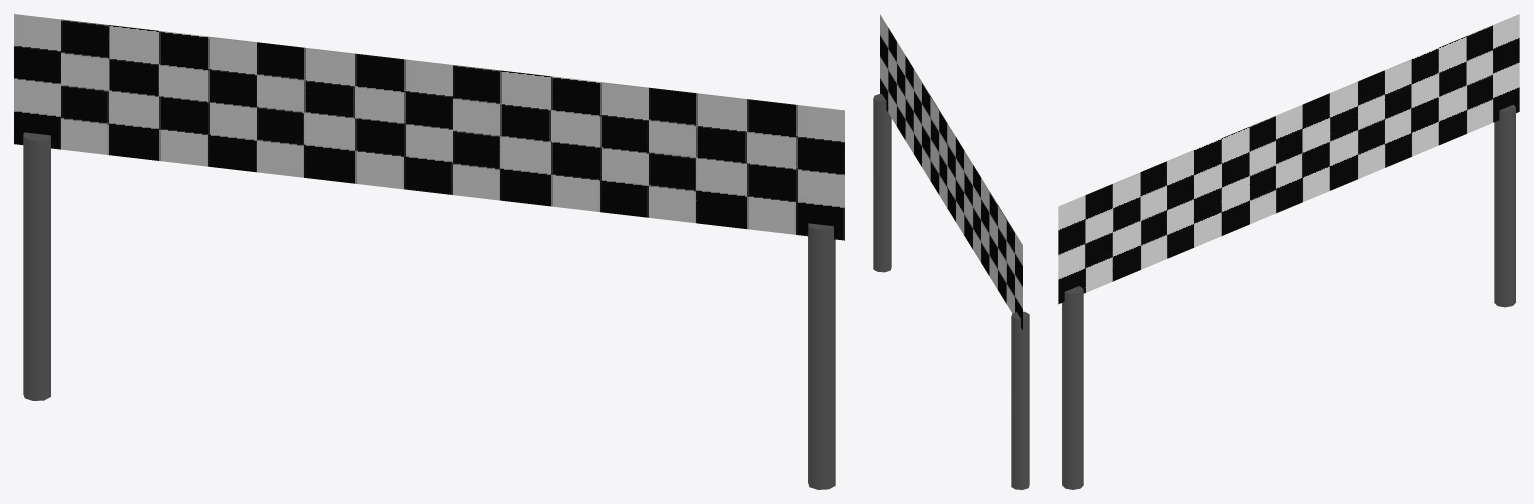
The model's file is finish-line.gltf.
3 renders of one model, left to right at view 1: azimuth 30°, elevation 25°; view 2: azimuth 150°, elevation 25°; view 3: azimuth 270°, elevation 25°, orthographic. The views are drawn at different scales.
Parts seen in each view (by area): view 1: object 3, right part finish line, left part finish line; view 2: object 3, right part finish line, left part finish line; view 3: object 3, left part finish line, right part finish line.
Boxes of the visible parts, left/top/right/bottom form: object 3: left=14, top=14, right=844, bottom=240; right part finish line: left=23, top=132, right=50, bottom=400; left part finish line: left=808, top=223, right=835, bottom=489; object 3: left=880, top=14, right=1022, bottom=329; right part finish line: left=1011, top=311, right=1029, bottom=489; left part finish line: left=873, top=94, right=891, bottom=272; object 3: left=1058, top=14, right=1519, bottom=304; left part finish line: left=1062, top=286, right=1083, bottom=489; right part finish line: left=1494, top=104, right=1515, bottom=307.
Bounding box in the file's own units: 2.11 × 1.45 × 2.13.
Materials: 2 (1 with a texture image).
